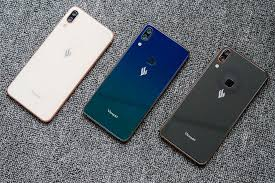vsmart: (155, 38, 267, 169), (75, 19, 187, 150), (8, 6, 117, 129)
